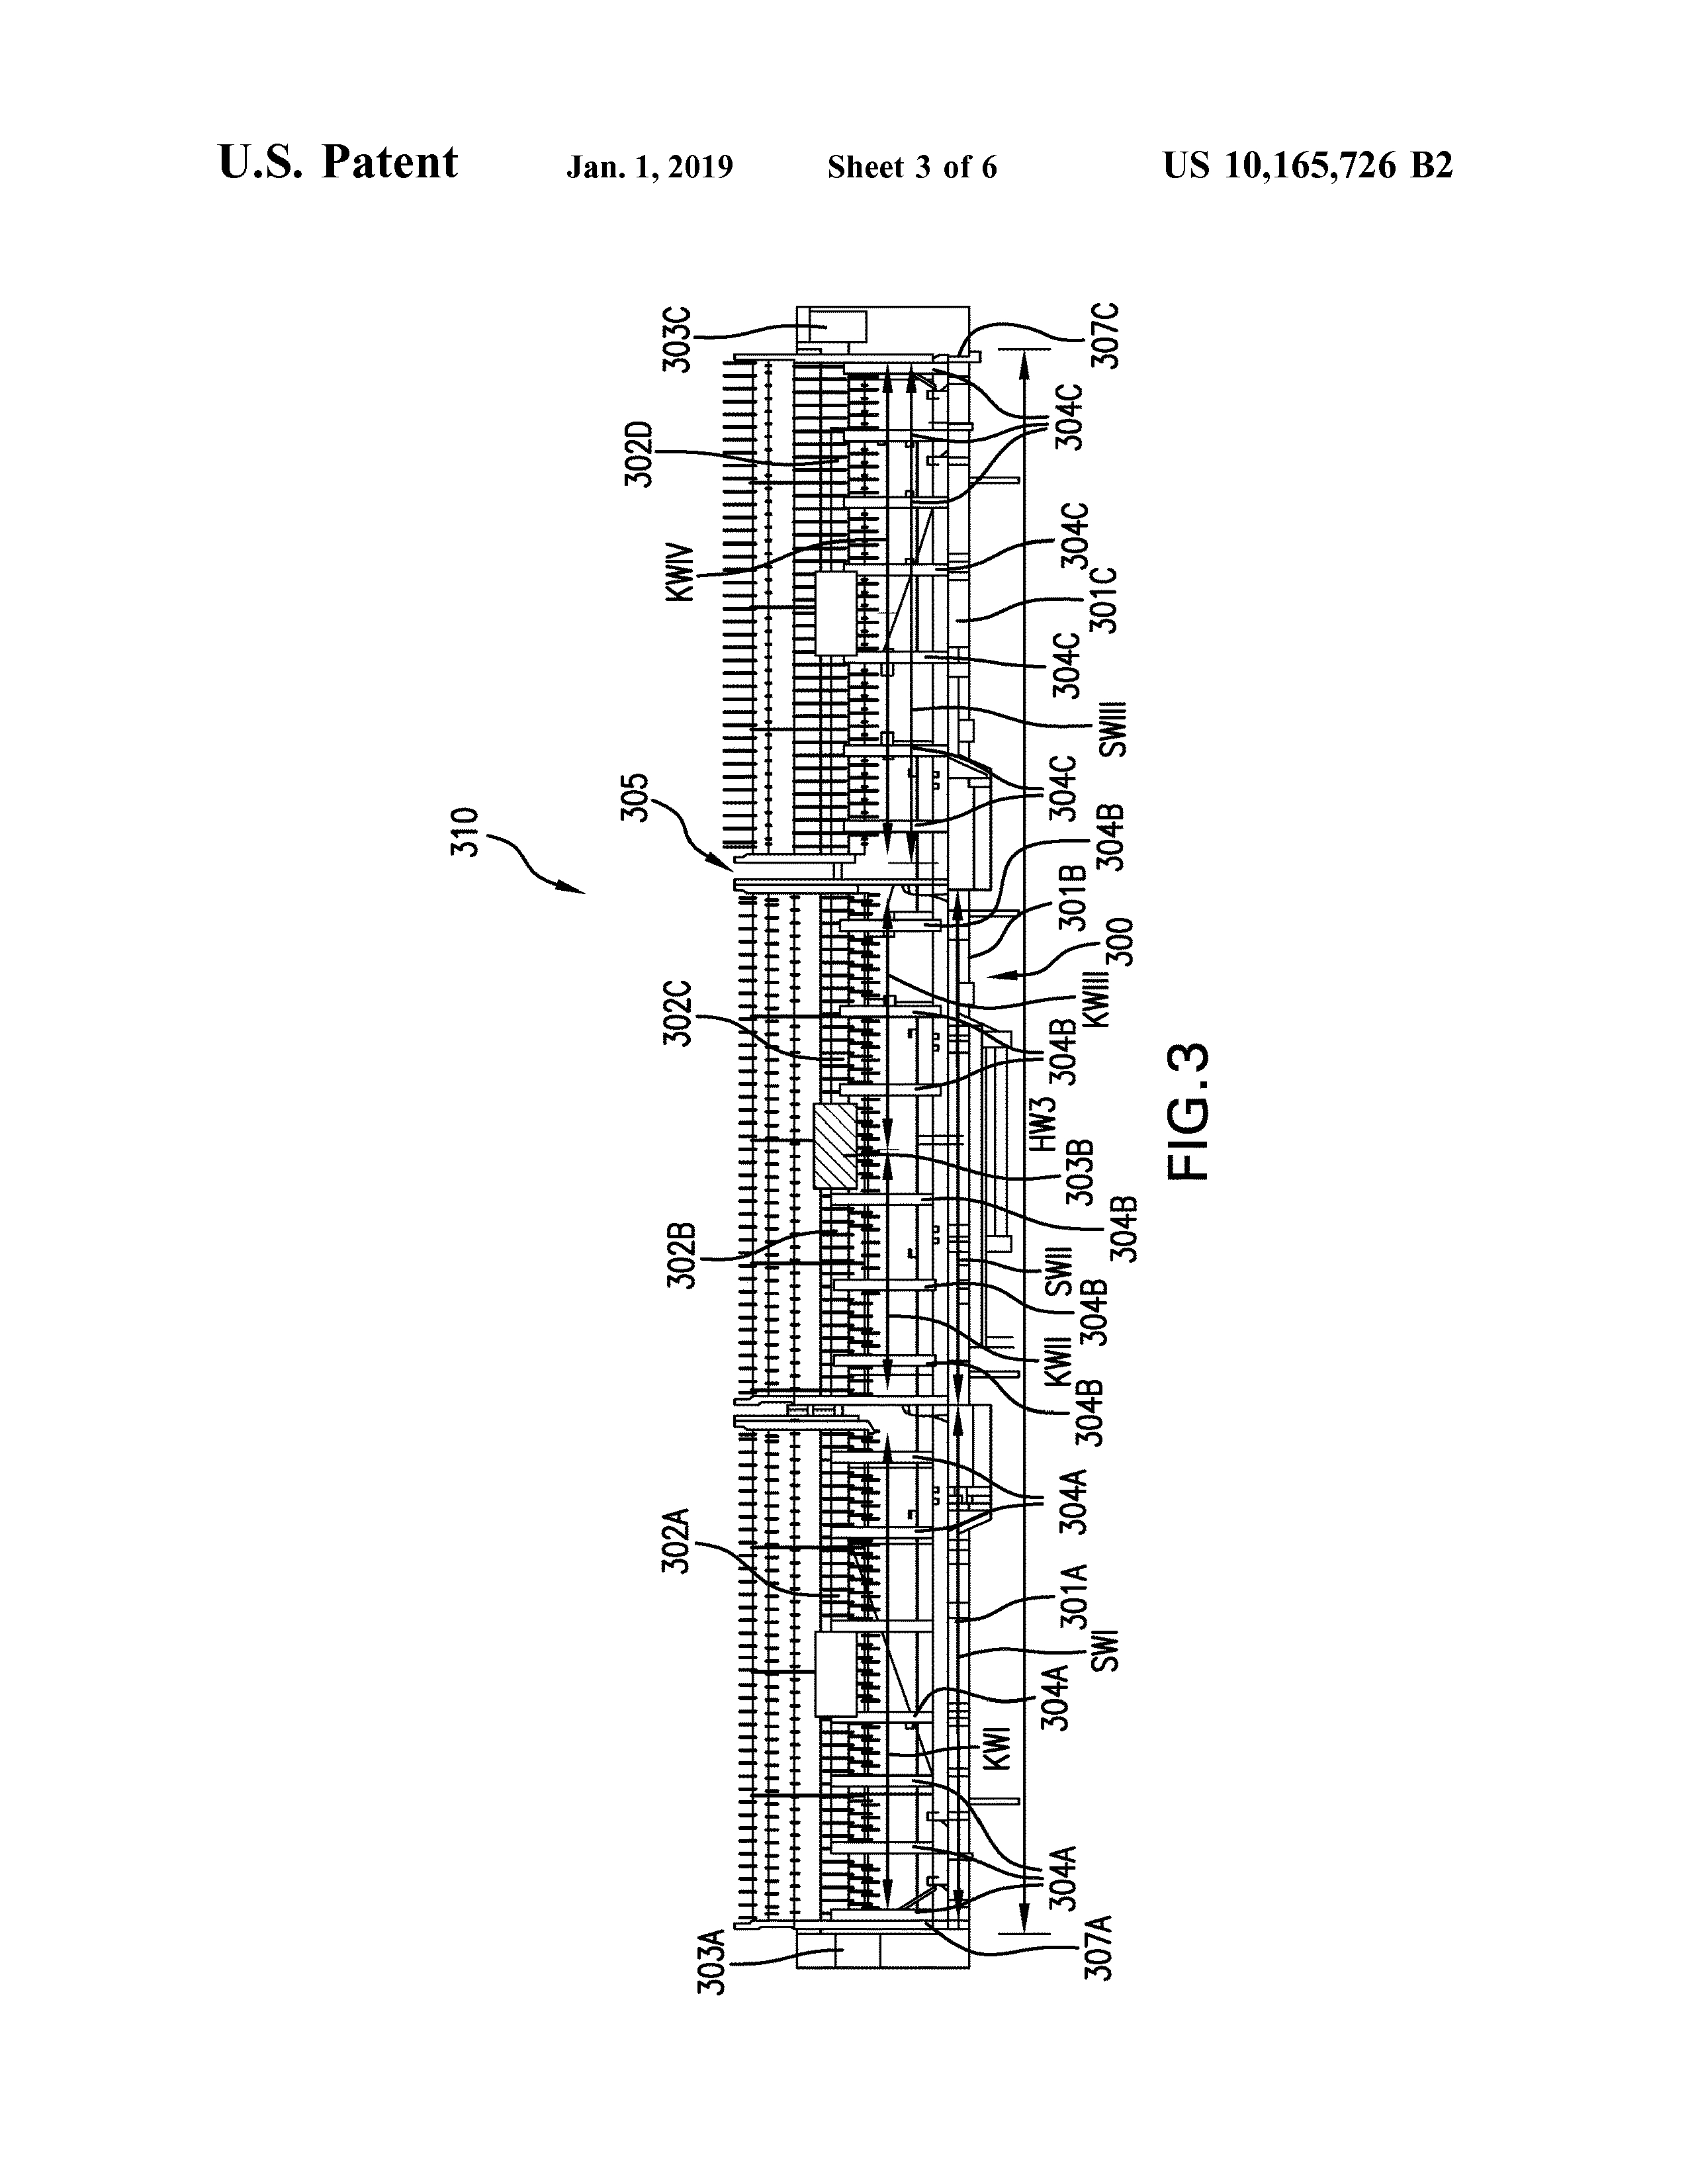patent image: (399, 282, 1291, 2031)
